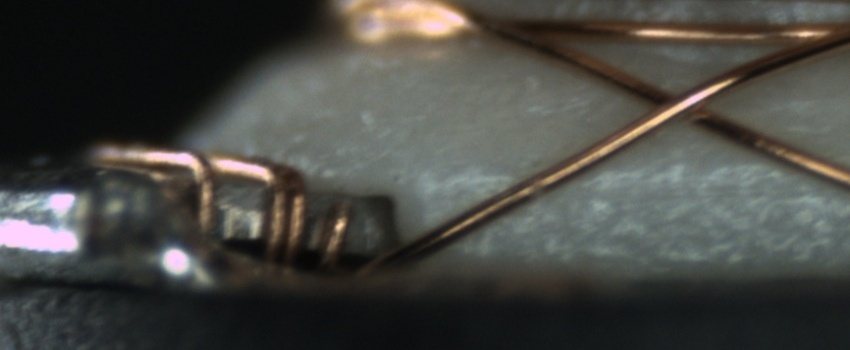CL: (631, 76, 728, 132)
DL: (397, 151, 832, 215)
TE: (74, 138, 355, 276)
